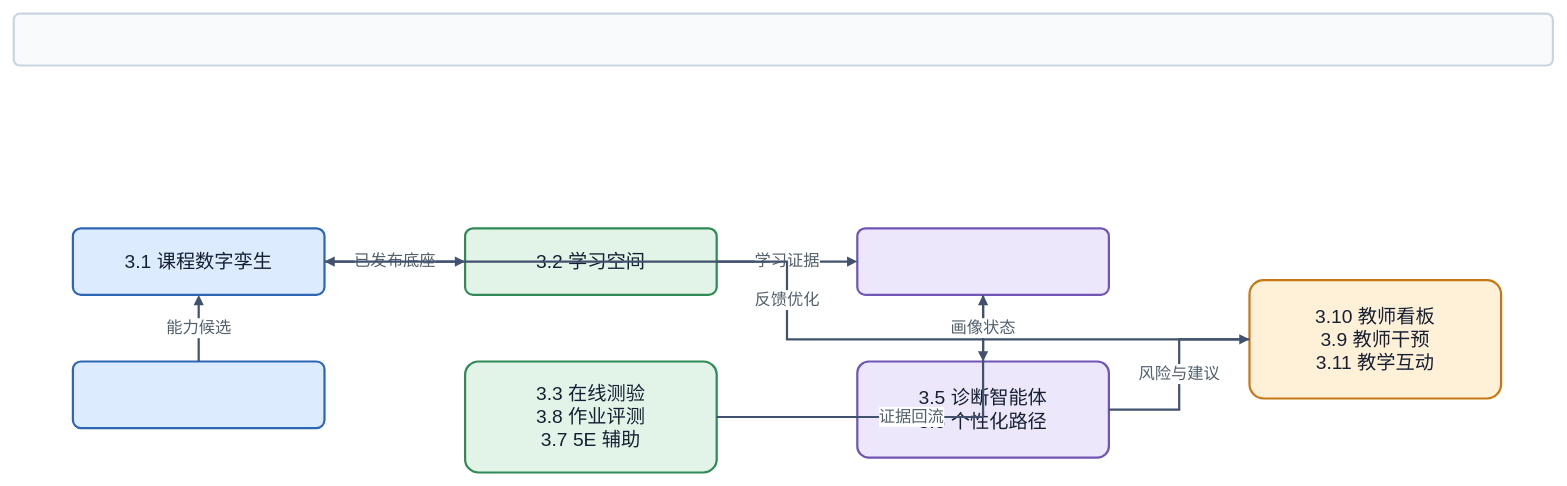
Some shapes in this 1567 by 486 pixel diagram are drawn without their labels. The shapes that lost their labels are listed below. From the top down, each one's centre as x and y in pixels, then its label:
the point at 783,39: 图 2 需求模块与实现模块协同关系
the point at 983,261: 3.4 学生数字孪生
the point at 198,394: 3.12 行业情报
